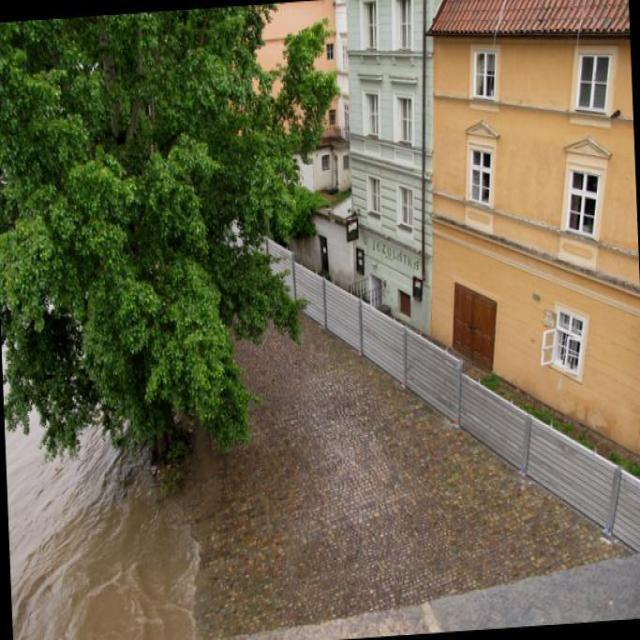flood: (2, 380, 188, 639)
